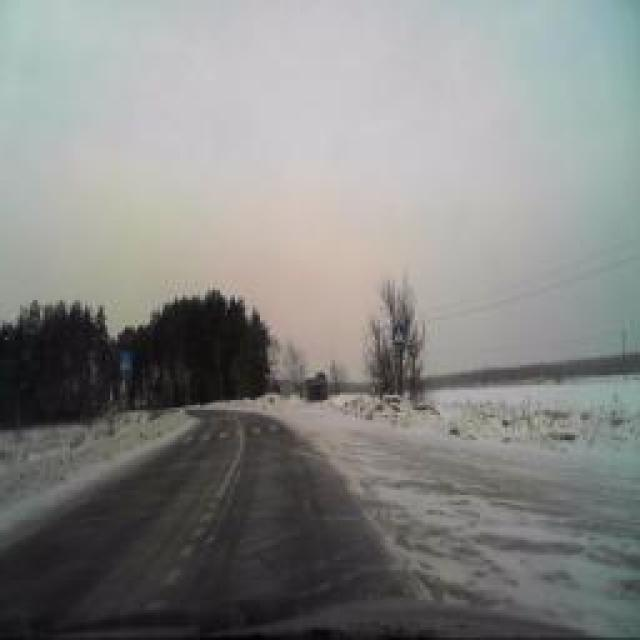sign: (120, 351, 132, 374), (393, 325, 405, 345)
